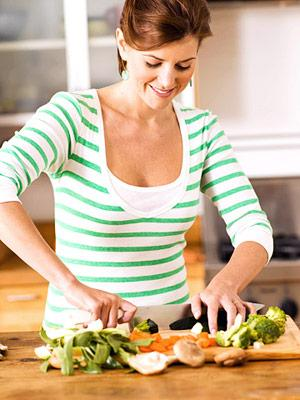person: (1, 1, 276, 334)
